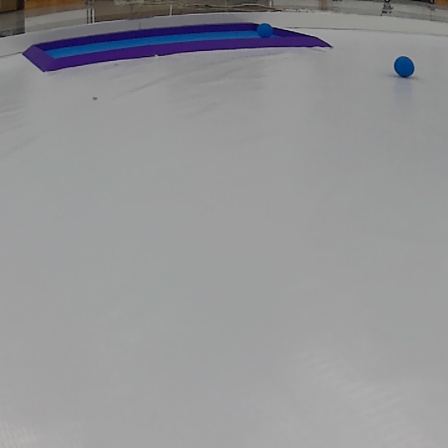blue: (392, 53, 417, 81), (254, 23, 273, 39)
blue_aim: (22, 22, 336, 67)
